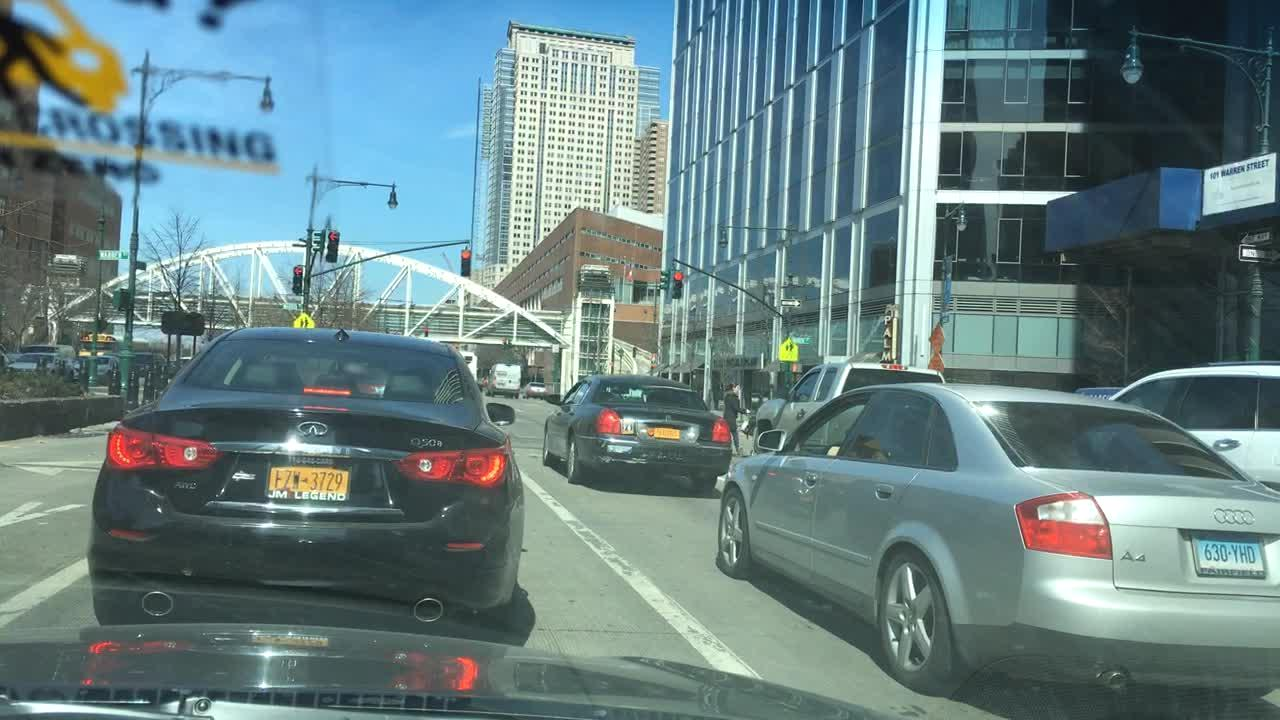Audi: (1199, 497, 1273, 536)
Infiniti: (293, 417, 333, 443)
